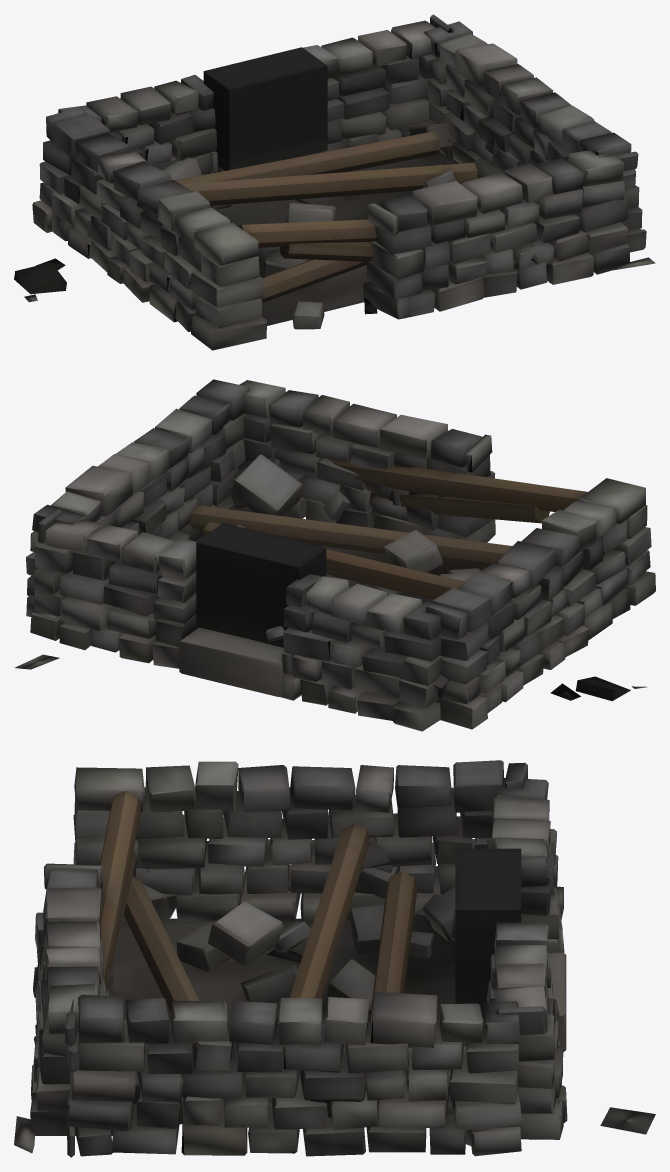
File: bunker_destroyed_lod1.glb
The picture shows the model from 3 angles, top to bottom: view 1: azimuth 30°, elevation 25°; view 2: azimuth 150°, elevation 25°; view 3: azimuth 270°, elevation 25°; orthographic projection. The views are drawn at different scales.
Parts seen in each view (by area): view 1: structure, debris; view 2: structure, debris; view 3: structure, debris.
Part boxes in pixels (x1,y1,x2,y2): structure: (32,14,646,350); debris: (14,257,655,314); structure: (26,379,655,731); debris: (14,654,647,701); structure: (30,760,567,1157); debris: (14,949,655,1153).
Bounding box in the file's own units: 5.84 × 1.31 × 4.87.
Materials: 1 (1 with a texture image).
